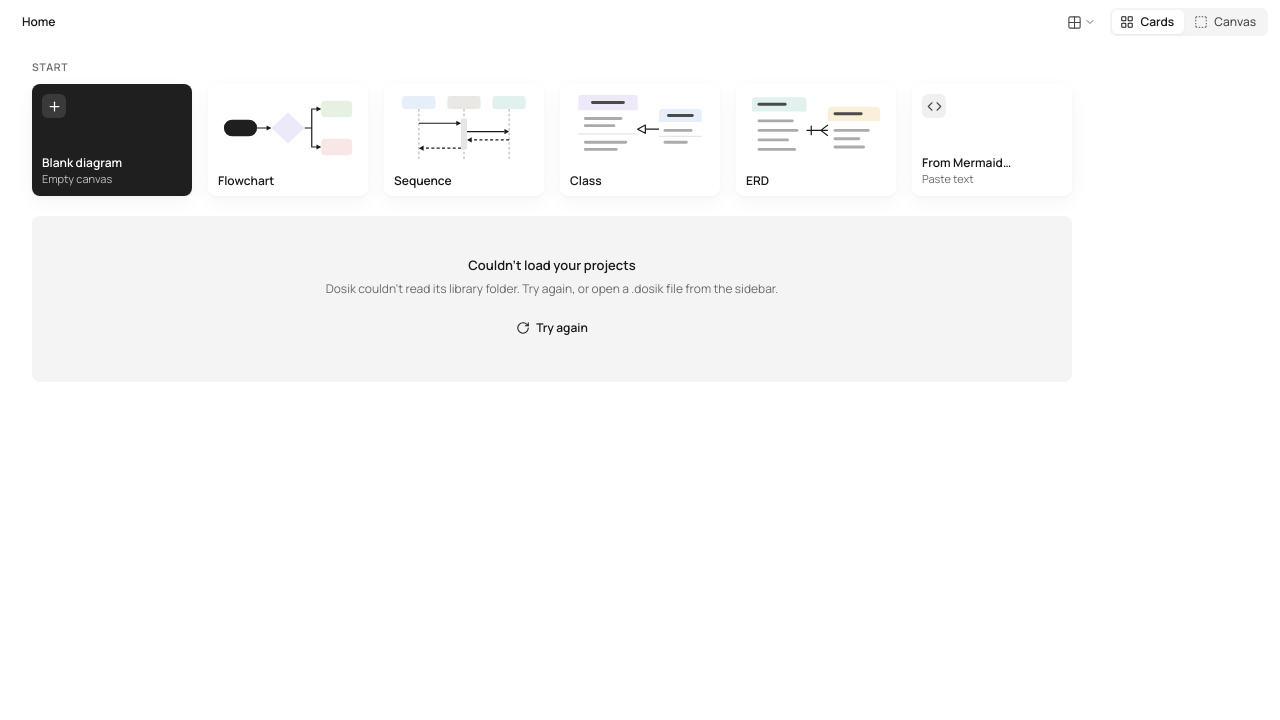
Test case: Home assembly (#220 D1·D4·D12·D16, T29) › failing to read the list shows an error toast and a 'couldn't load' box — not an empty library (#178)
The width and height of the screenshot is (1280, 720).
Expected: the text "Couldn't load your projects" is shown, 468,256 -> 636,274
Click the button "Try again": click(552, 328) 506,314 -> 598,342
(page scrolled)
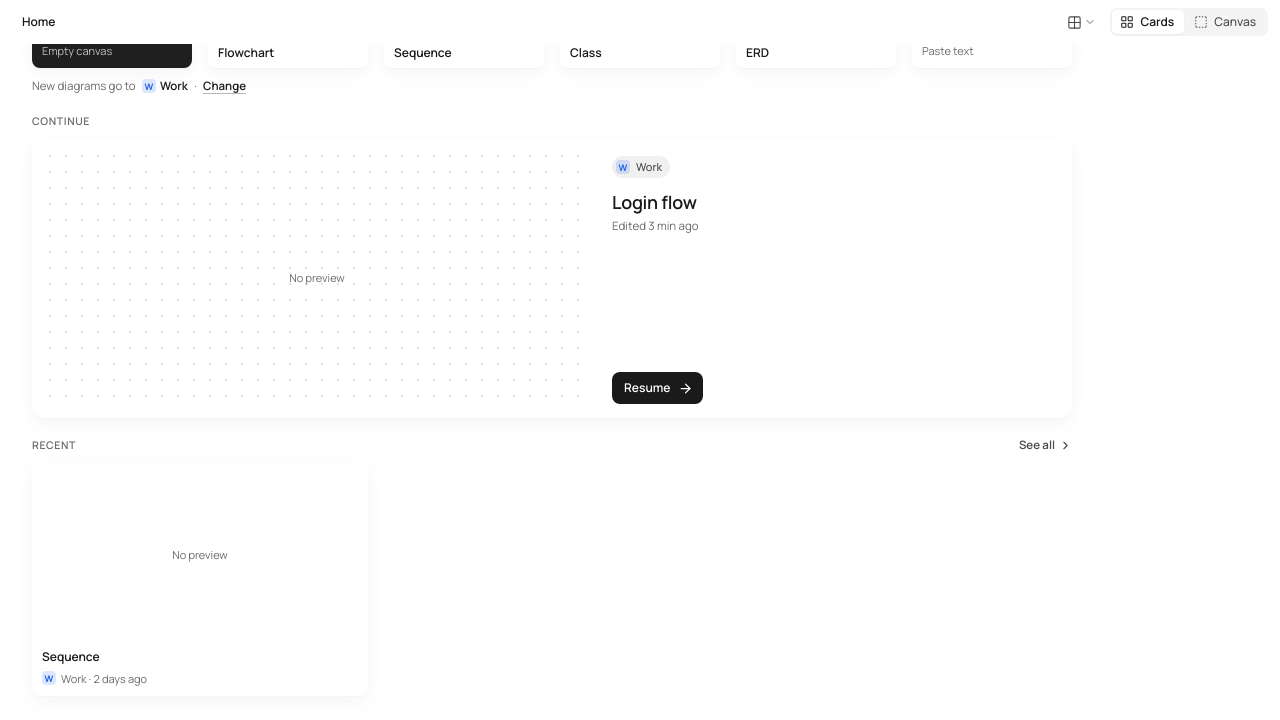
Result: the list named "Recent diagrams" is shown at 32,462 -> 368,696
